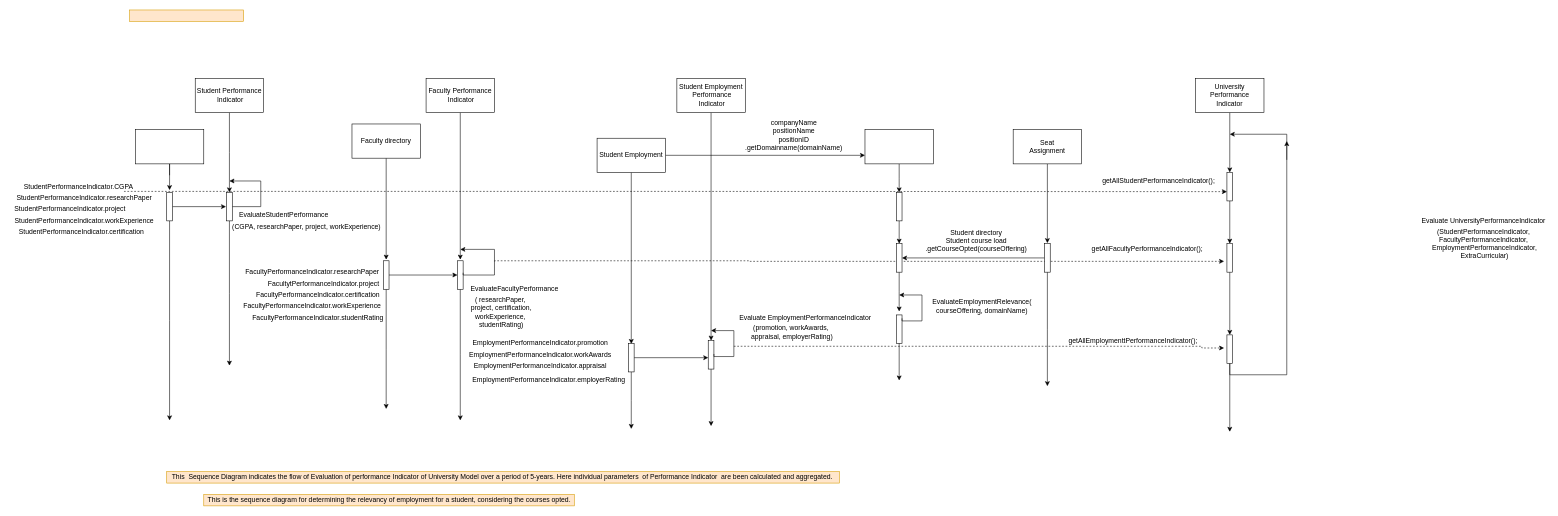
This 1558x516 diagram has some shape labels left out. The centre of each missing label's shape, as x and y in pixels:
"Course Offering" belongs at (898,146).
"Diagram-1- Performance Indicator" belongs at (186,15).
"Student directory" belongs at (169,146).
